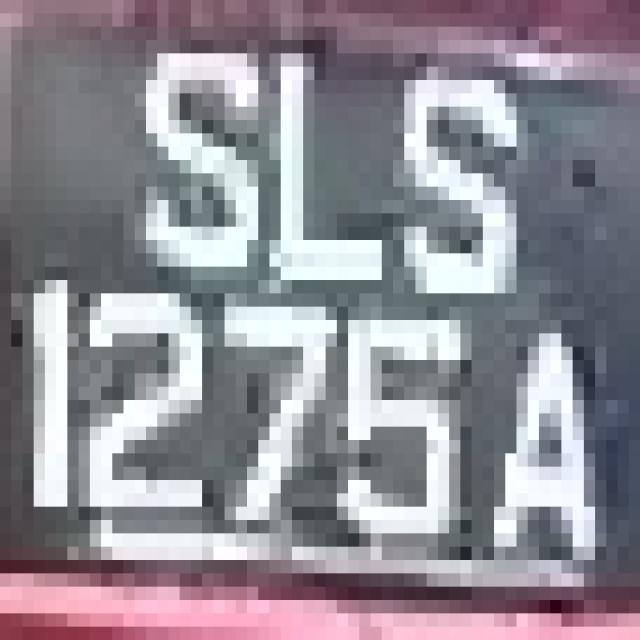1: (22, 254, 90, 534)
2: (79, 253, 213, 560)
5: (326, 267, 482, 560)
7: (202, 267, 337, 560)
A: (472, 280, 618, 587)
L: (247, 40, 415, 213)
S: (135, 27, 258, 333), (404, 54, 550, 294)
